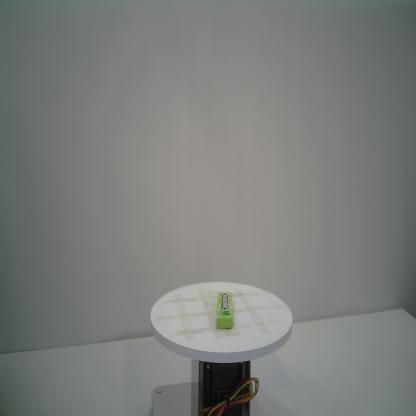Gum: (216, 292, 233, 329)
